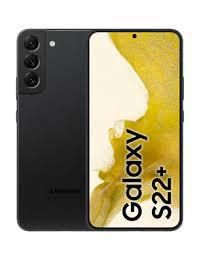Smartphone: (82, 33, 182, 231), (16, 32, 90, 230)
